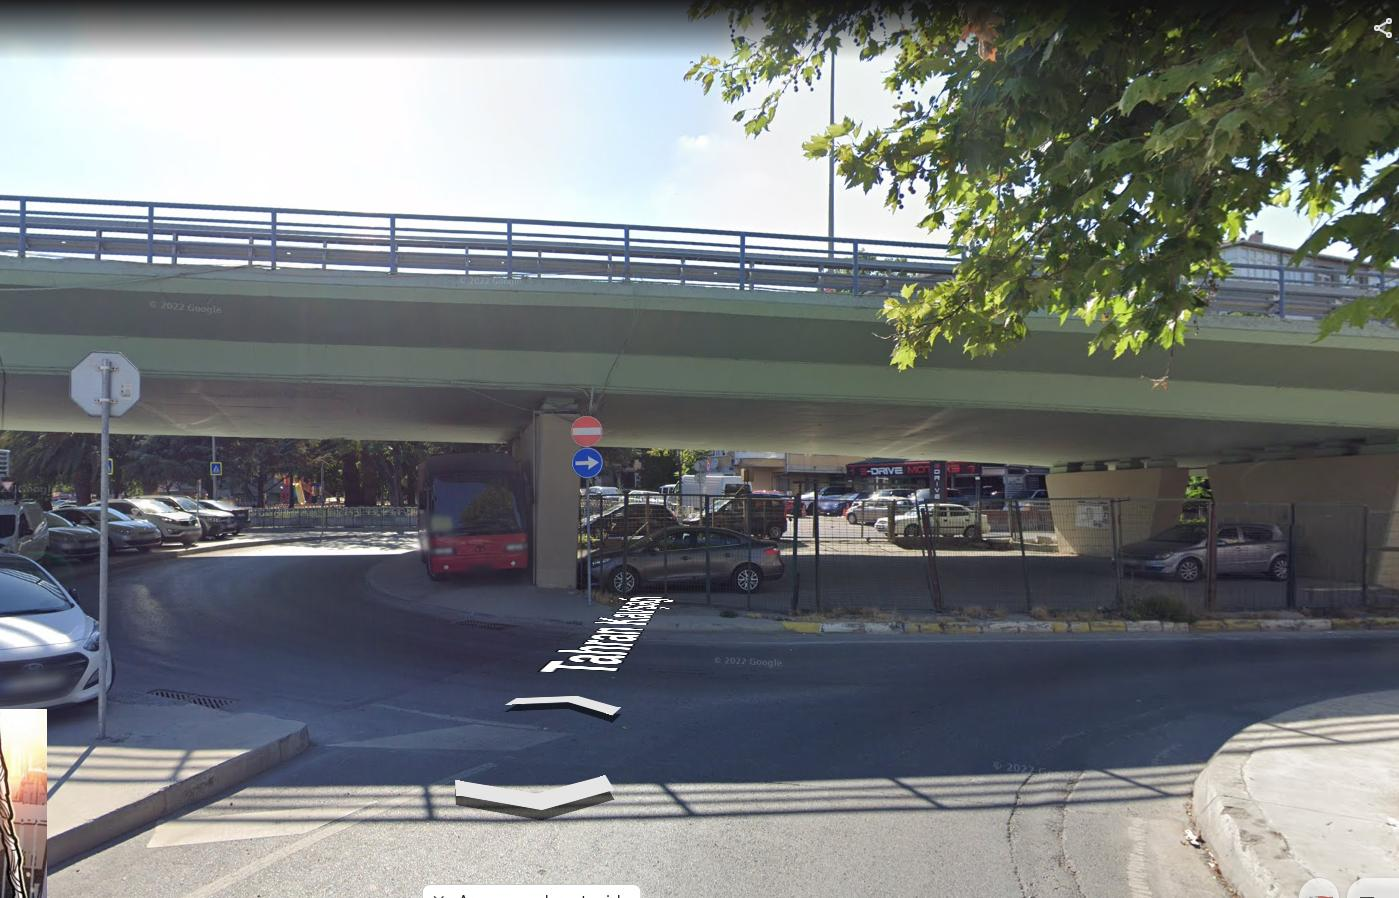turnright: (573, 448, 602, 479)
